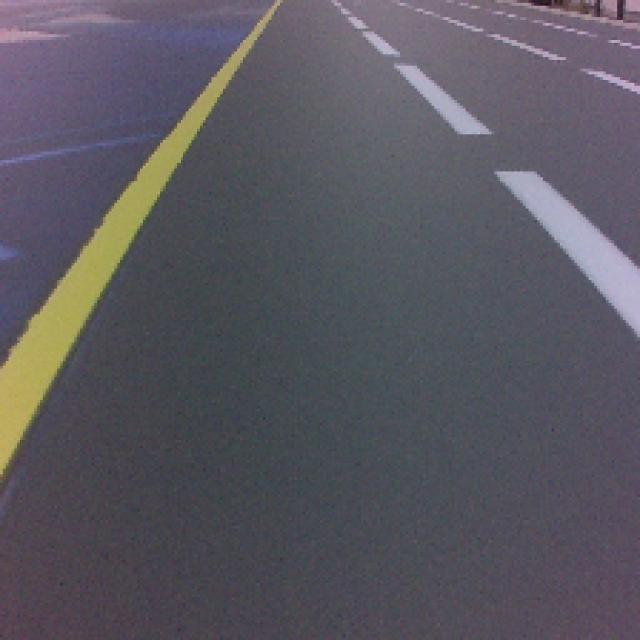Road: (0, 315, 635, 640)
